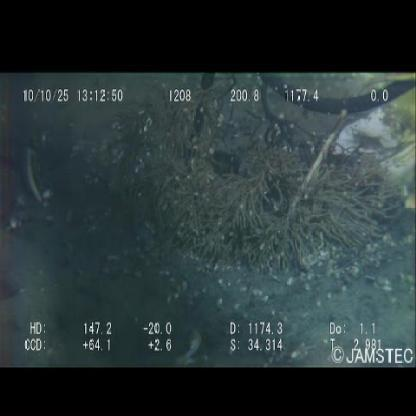Rác: (334, 91, 416, 209)
